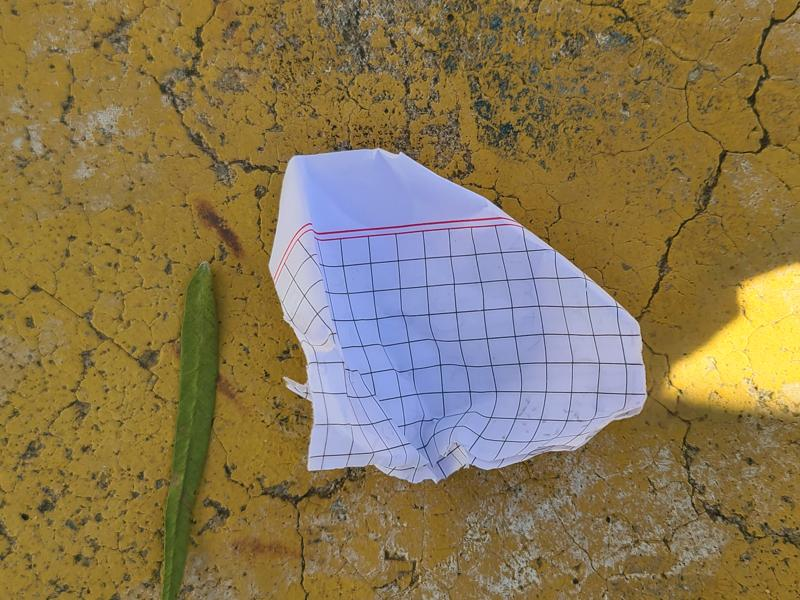papel: (270, 149, 647, 484)
